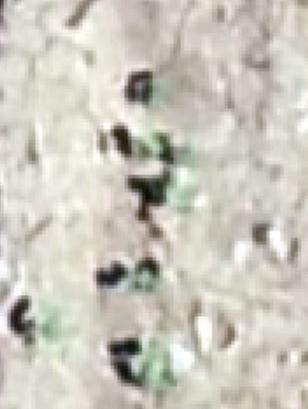cotton: (144, 355, 167, 386), (143, 139, 172, 157), (147, 82, 168, 104), (165, 183, 187, 204)
